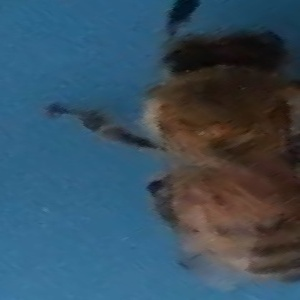bee: (55, 29, 300, 288)
